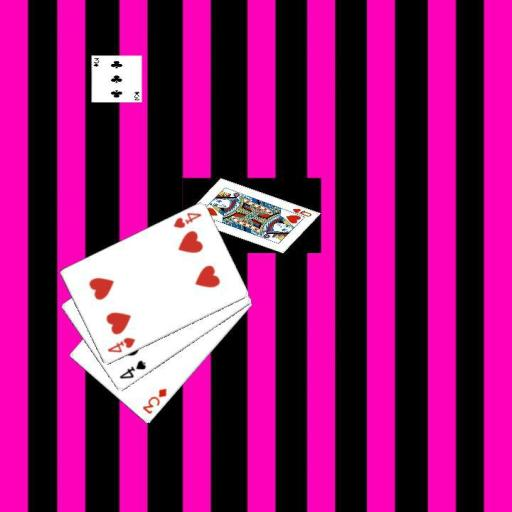3D: (140, 385, 169, 416)
4H: (104, 334, 136, 355), (170, 210, 203, 230)
4S: (116, 358, 147, 381)
